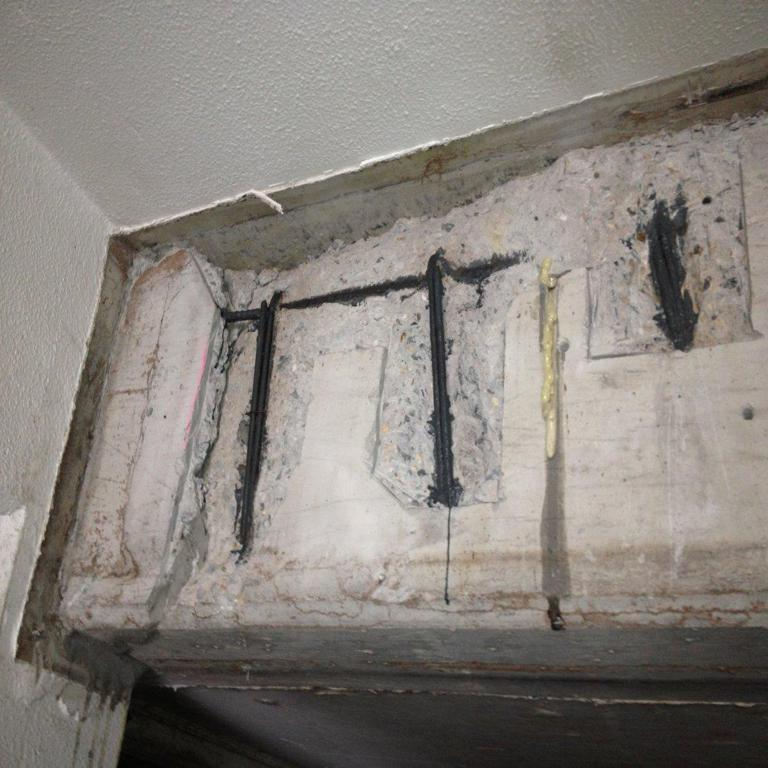damage: (62, 122, 762, 630)
